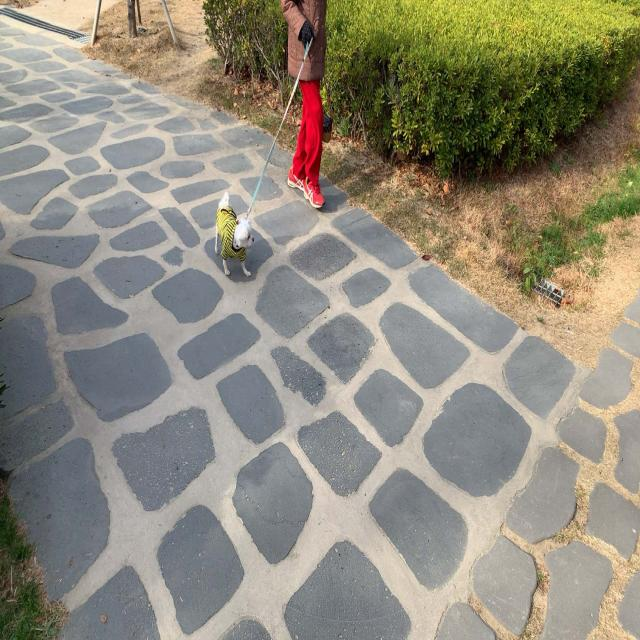Leashed_Dog: (215, 64, 316, 279)
